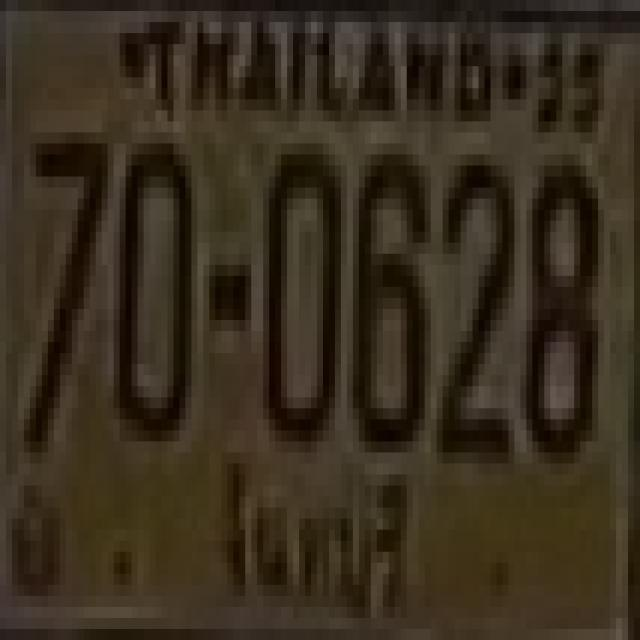0: (114, 132, 192, 430), (260, 144, 338, 442)
2: (439, 154, 512, 452)
6: (350, 144, 422, 442)
7: (27, 132, 105, 442)
8: (524, 154, 596, 452)
CTI: (190, 466, 427, 624)
